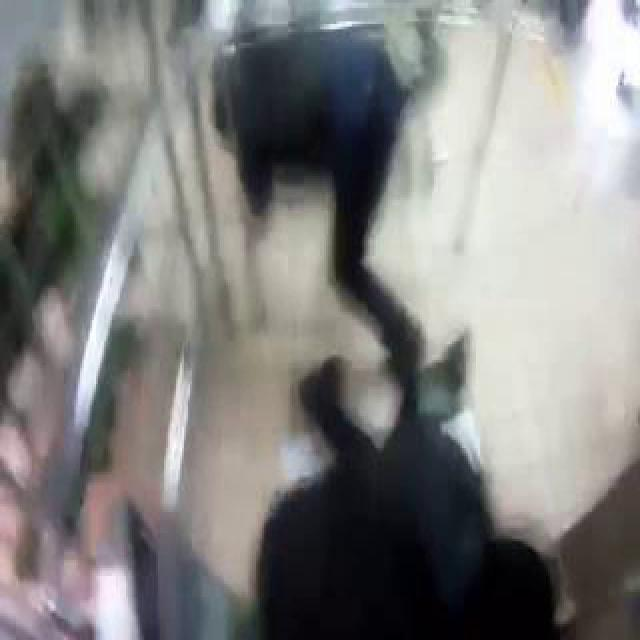shooting: (113, 0, 513, 632), (176, 0, 354, 226)
